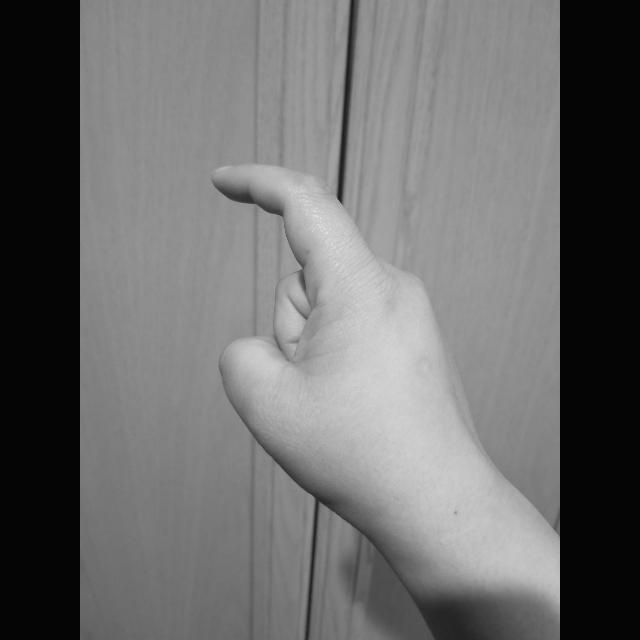X: (205, 160, 492, 550)
